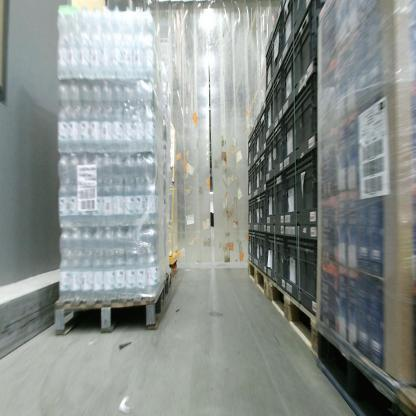pallet: (54, 281, 168, 335), (266, 281, 316, 348)
